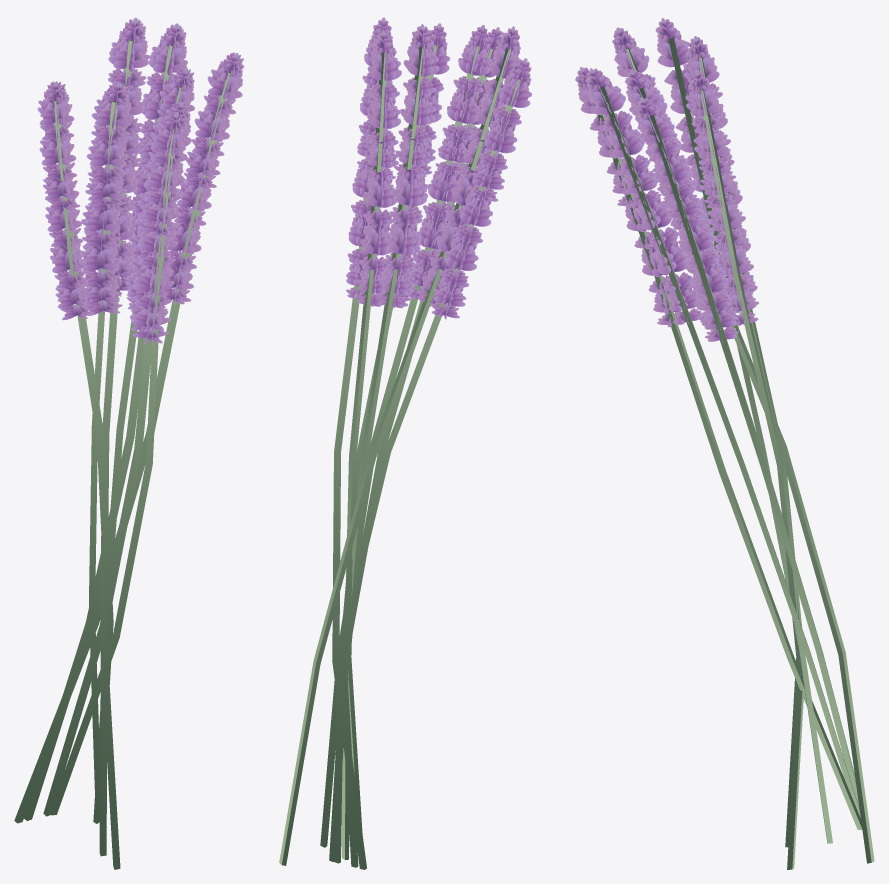
The model's file is SM_Bouquet_Lavande.fbx.
3 views of the same model, side by side, from view 1: azimuth 30°, elevation 25°; view 2: azimuth 150°, elevation 25°; view 3: azimuth 270°, elevation 25° (orthographic). The views are drawn at different scales.
Parts seen in each view (by area): view 1: Bouquet_Lavande; view 2: Bouquet_Lavande; view 3: Bouquet_Lavande.
Part boxes in pixels (x1,y1,x2,y2): Bouquet_Lavande: (14,17,244,869); Bouquet_Lavande: (279,17,532,869); Bouquet_Lavande: (575,18,874,869).
Size of the model in its own units: 5.89 by 24.82 by 8.35.
